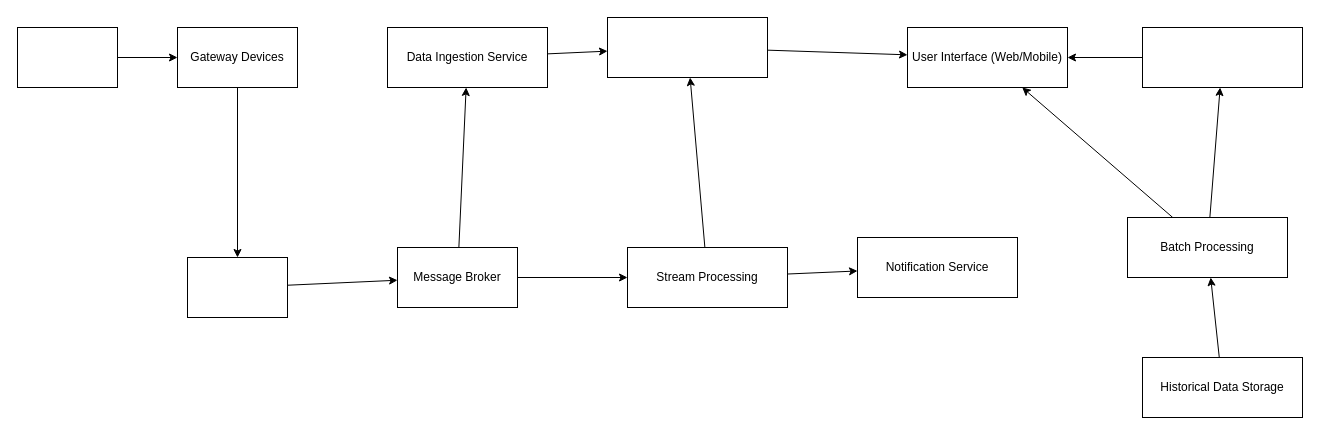
Some shapes in this 1320 by 435 pixel diagram are drawn without their labels. The shapes that lost their labels are listed below. From the top down, each one's centre as x and y in pixels, then its label:
[67,57]: Sensors
[687,47]: Real-Time Data Storage
[1222,57]: Machine Learning
[237,287]: API Gateway
